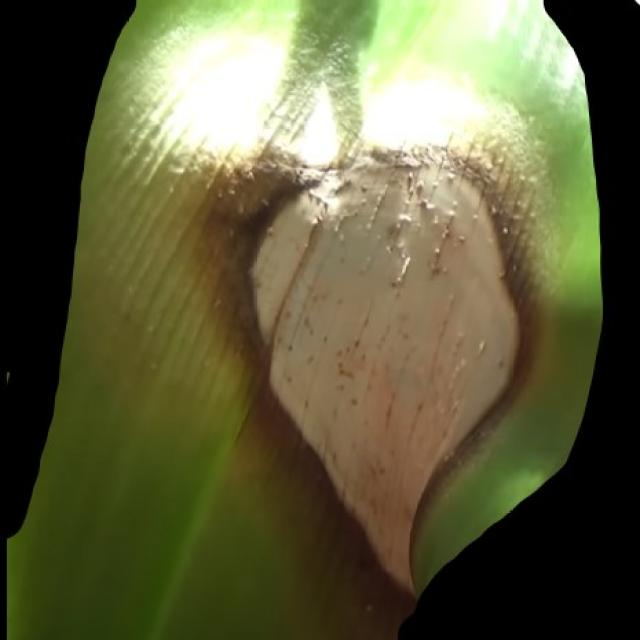mite: (260, 0, 383, 162), (329, 334, 370, 410), (0, 348, 30, 407), (0, 361, 21, 395), (334, 359, 355, 381), (0, 366, 15, 388), (494, 355, 506, 370), (347, 394, 359, 407)
sunburn: (193, 125, 557, 597)
